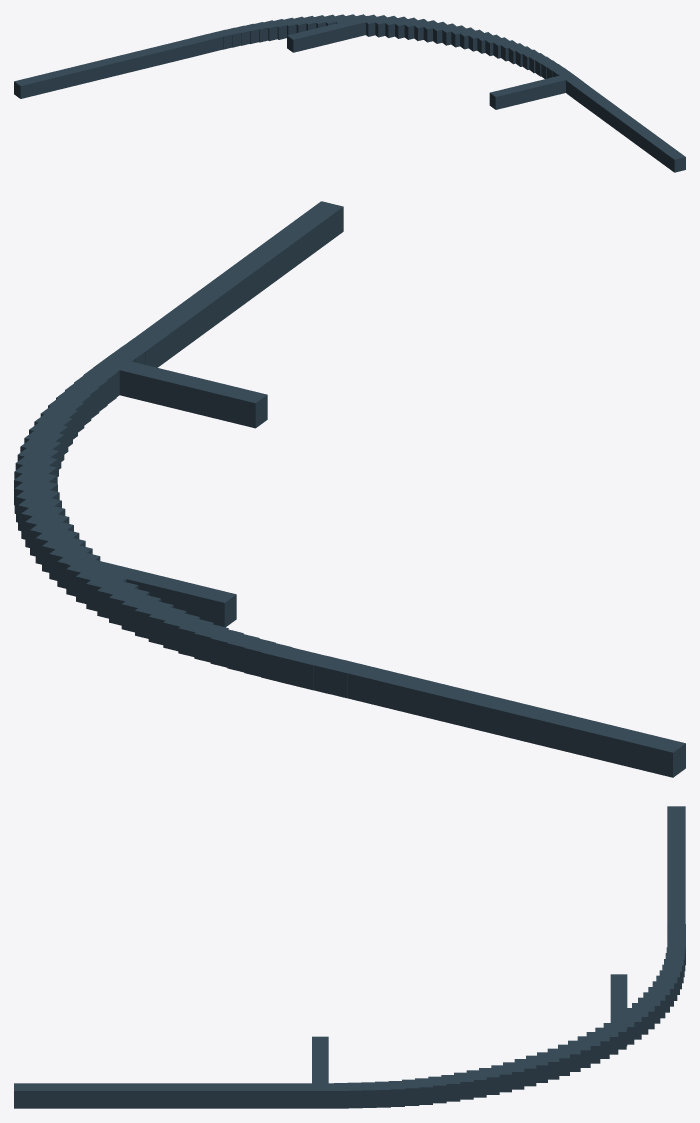
File: v02-transit-world-03-03-01.glb
The picture shows the model from 3 angles, top to bottom: view 1: azimuth 30°, elevation 25°; view 2: azimuth 150°, elevation 25°; view 3: azimuth 270°, elevation 25°; orthographic projection. The views are drawn at different scales.
Parts seen in each view (by area): view 1: v02-transit-world-03-03-01; view 2: v02-transit-world-03-03-01; view 3: v02-transit-world-03-03-01.
Boxes of the visible parts, left/top/right/bottom form: v02-transit-world-03-03-01: left=14, top=14, right=685, bottom=172; v02-transit-world-03-03-01: left=14, top=201, right=685, bottom=777; v02-transit-world-03-03-01: left=14, top=806, right=685, bottom=1108.
Bounding box in the file's own units: 48.4 × 1.4 × 48.26.
